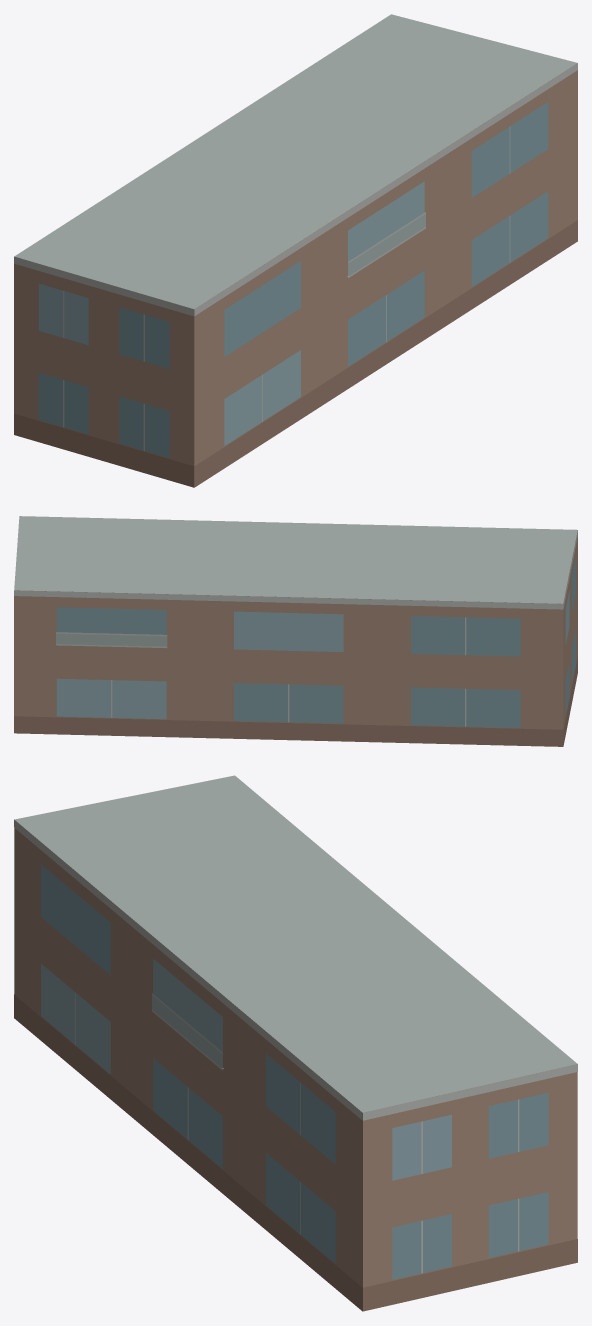
Rendered from survey-upis-32502717.glb.
3 views of the same model, one above another, from view 1: azimuth 30°, elevation 25°; view 2: azimuth 150°, elevation 25°; view 3: azimuth 270°, elevation 25° (orthographic). The views are drawn at different scales.
Parts seen in each view (by area): view 1: survey-upis-32502717.tmp; view 2: survey-upis-32502717.tmp; view 3: survey-upis-32502717.tmp.
Part boxes in pixels (x1,y1,x2,y2): survey-upis-32502717.tmp: (14, 14, 577, 487); survey-upis-32502717.tmp: (14, 516, 577, 746); survey-upis-32502717.tmp: (14, 775, 577, 1311).
Size of the model in its own units: 22.24 by 6.1 by 15.7.
